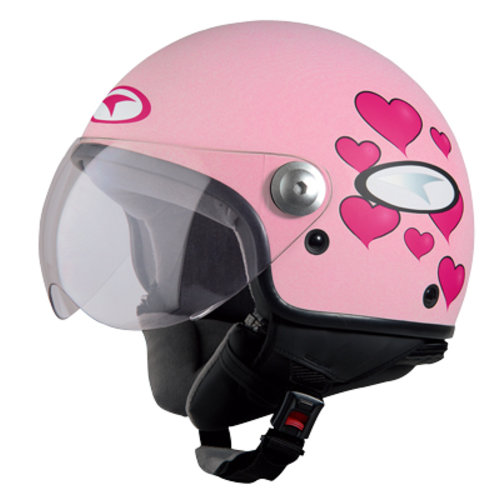helmet: (81, 23, 474, 372)
